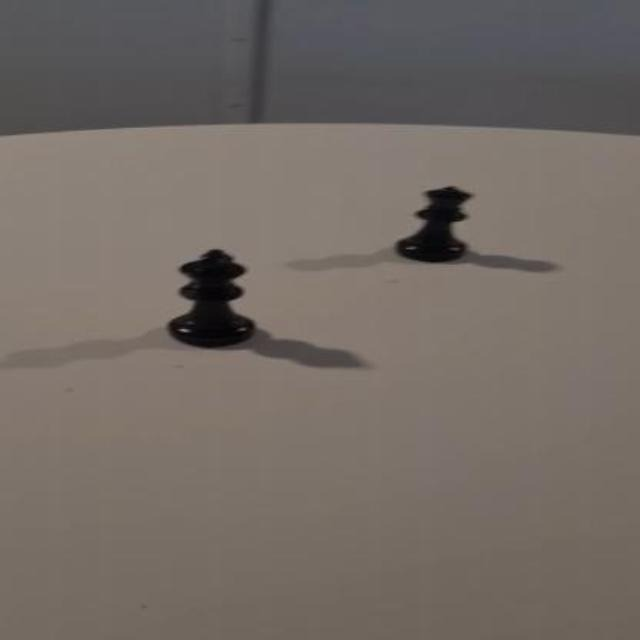black-king: (166, 249, 256, 347)
black-queen: (395, 187, 475, 262)
